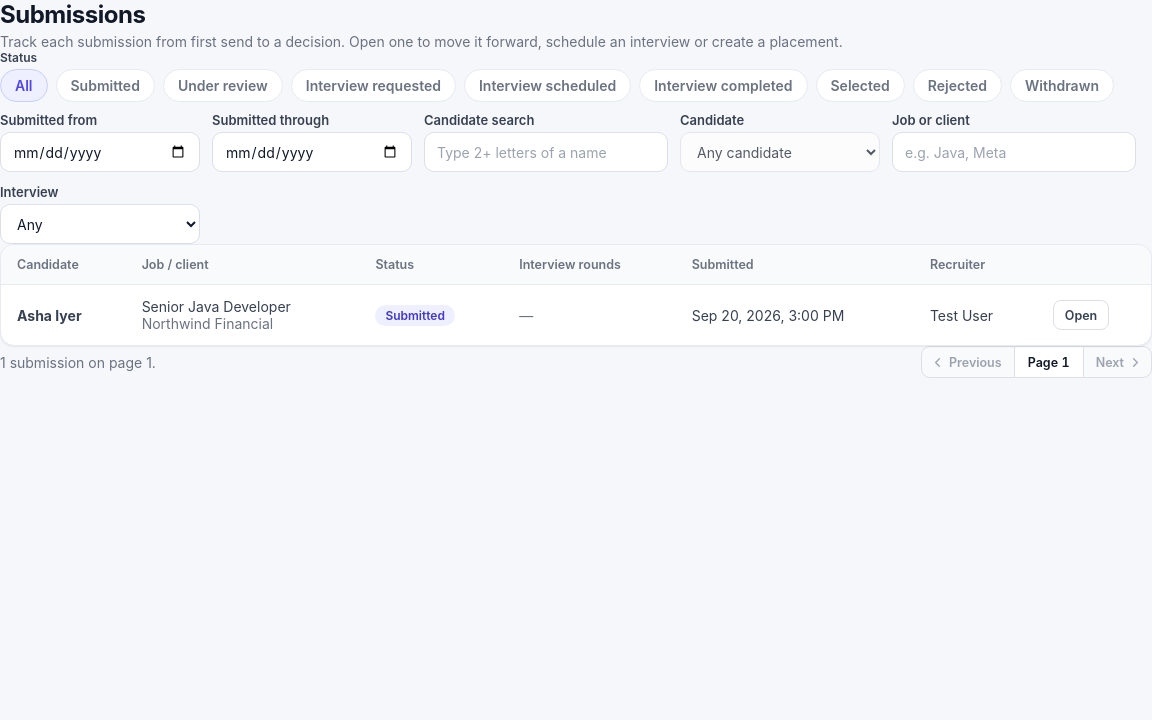
Test case: Submission detail › hides every action when the API sends no actions
Click the button with aria-label "Open submission of ".
click(1081, 315)  # box [1053,300,1109,330]
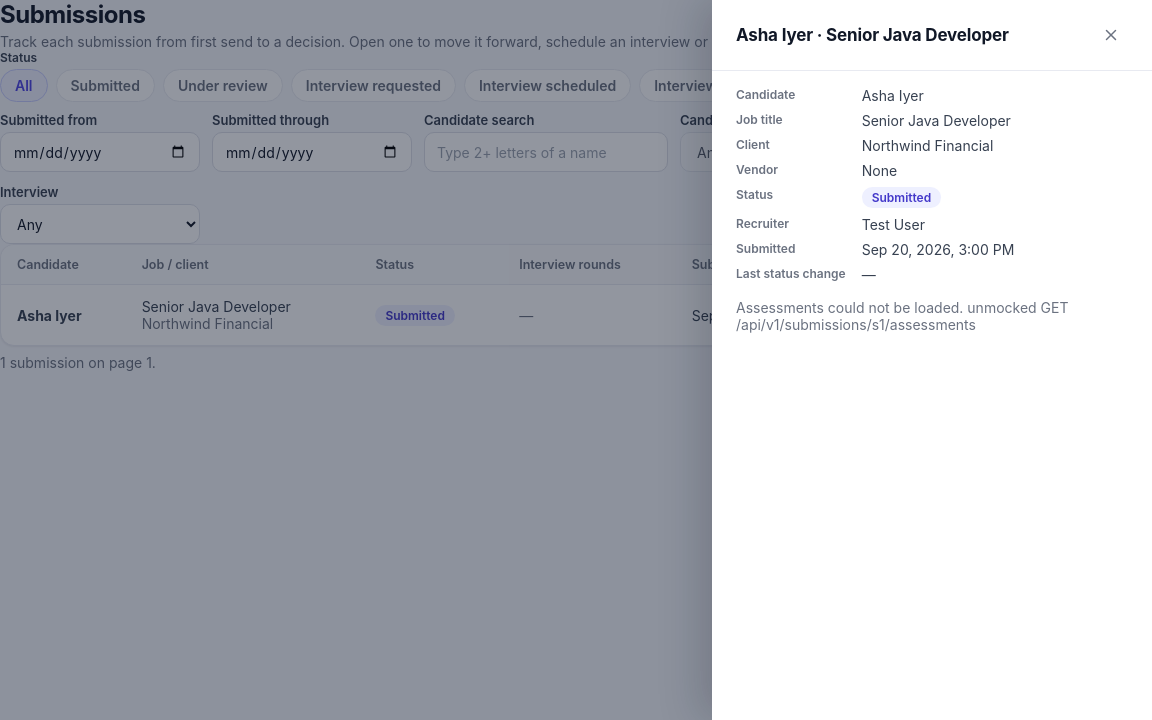
Expected: the text "Senior Java Developer" is shown, [862,112,1011,129]
